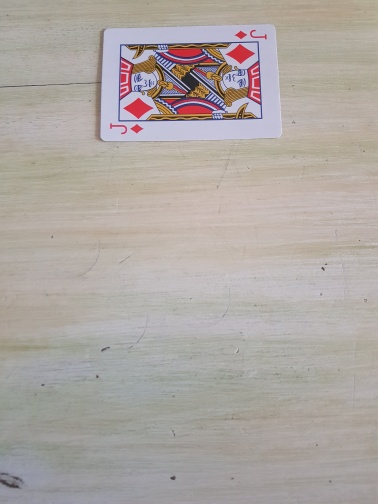jack: (99, 23, 283, 143)
